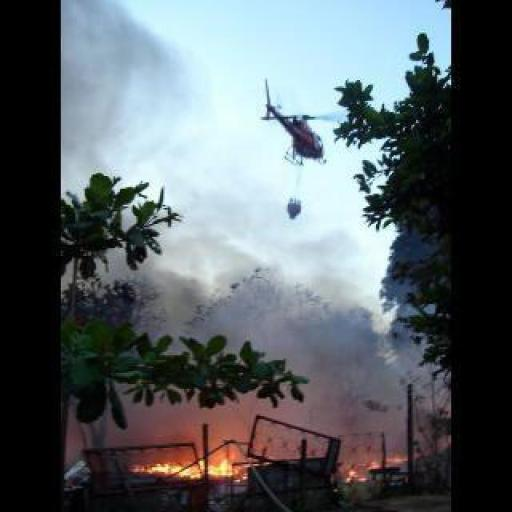smoke: (131, 450, 245, 490), (342, 453, 404, 485)
